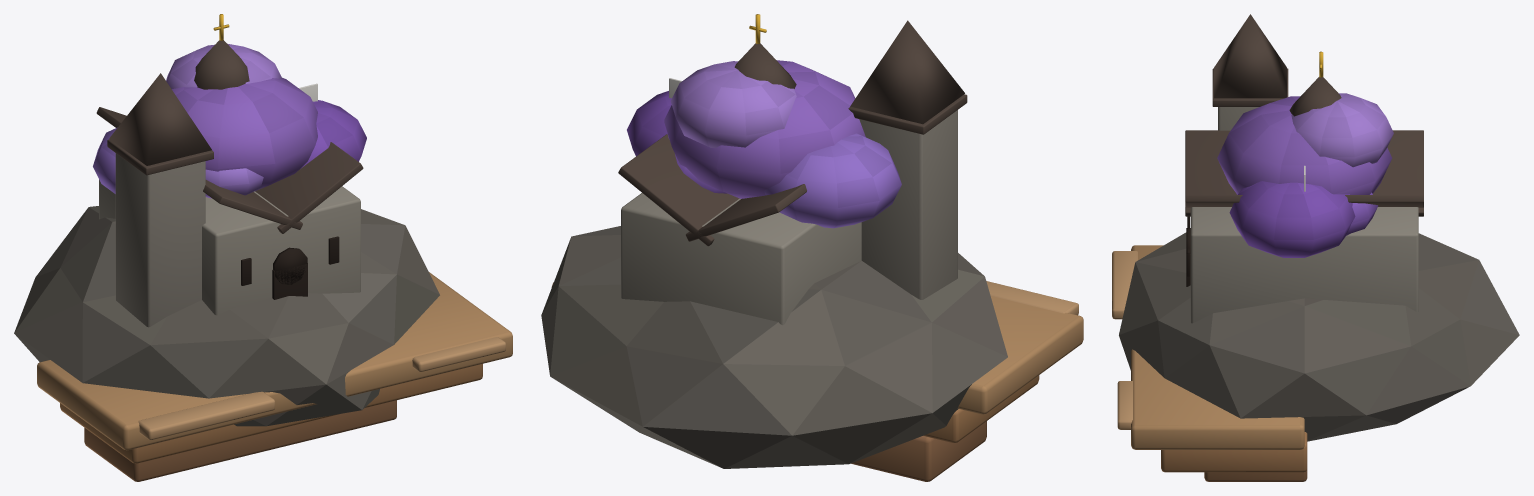
File: props.glb
3 views of the same model, side by side, from view 1: azimuth 30°, elevation 25°; view 2: azimuth 150°, elevation 25°; view 3: azimuth 270°, elevation 25° (orthographic). The views are drawn at different scales.
Parts seen in each view (by area): view 1: church, ledge, jacaranda; view 2: church, jacaranda, ledge; view 3: church, jacaranda, ledge.
Part boxes in pixels (x1,y1,x2,y2): church: (14,14,439,426); ledge: (37,272,512,481); jacaranda: (93,43,366,198); church: (541,14,1007,468); jacaranda: (627,60,901,228); ledge: (551,281,1083,481); church: (1119,14,1519,441); jacaranda: (1217,93,1393,257); ledge: (1112,245,1307,481).
Bounding box in the file's own units: 8 × 7.65 × 7.51.
